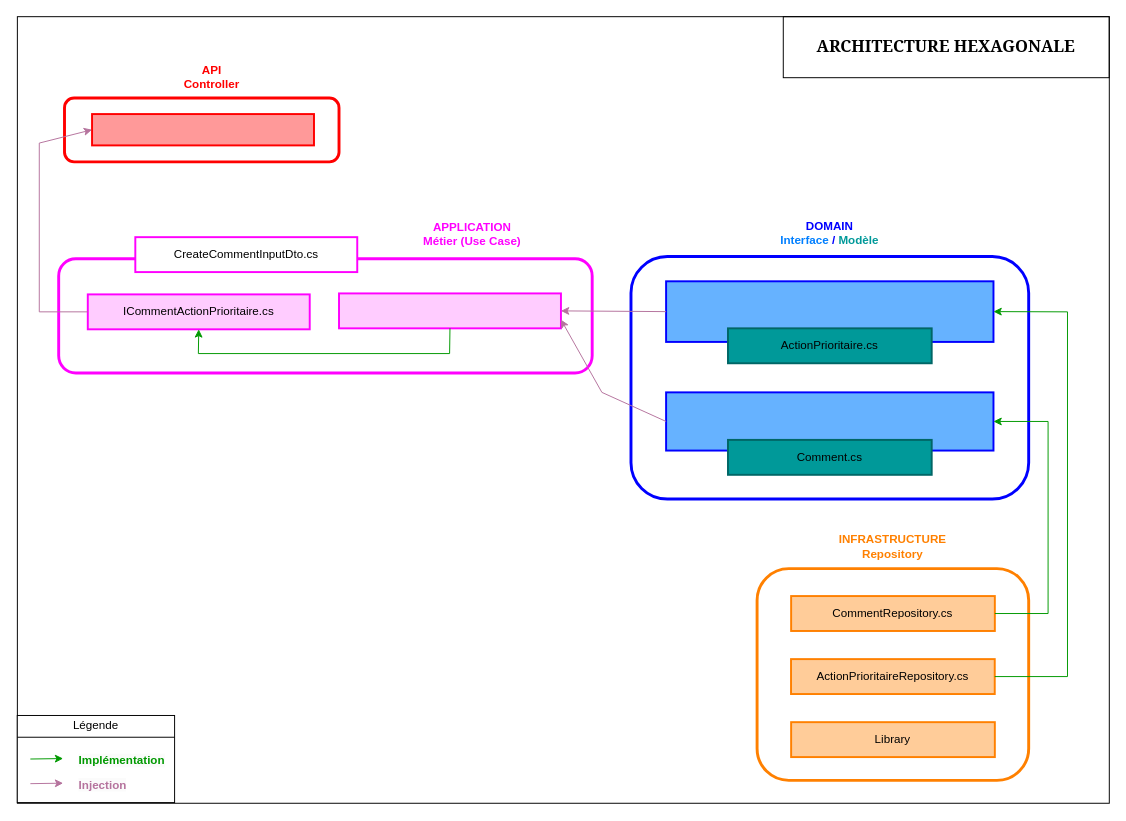
Some shapes in this 1126 by 821 pixel diagram are drawn without their labels. The box of each missing label's shape, as (x1, y1, x2, y2) in pixels:
ActionsPrioritairesController.cs: (91, 113, 314, 146)
CommentActionPrioritaire.cs: (338, 292, 561, 329)
IActionPrioritaireRepository.cs: (665, 280, 994, 342)
ICommentRepository.cs: (665, 391, 994, 451)
